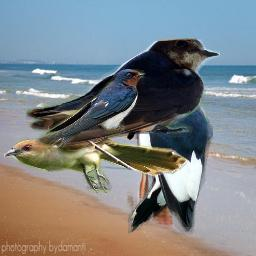Cuckoo: (4, 128, 188, 193)
Swallow: (26, 38, 220, 146), (29, 69, 146, 166)
Woodpecker: (126, 68, 213, 238)
